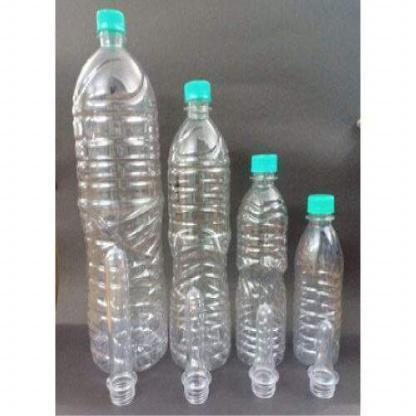bottle: (79, 3, 162, 381), (164, 76, 240, 378), (240, 147, 292, 374), (289, 189, 350, 372)
